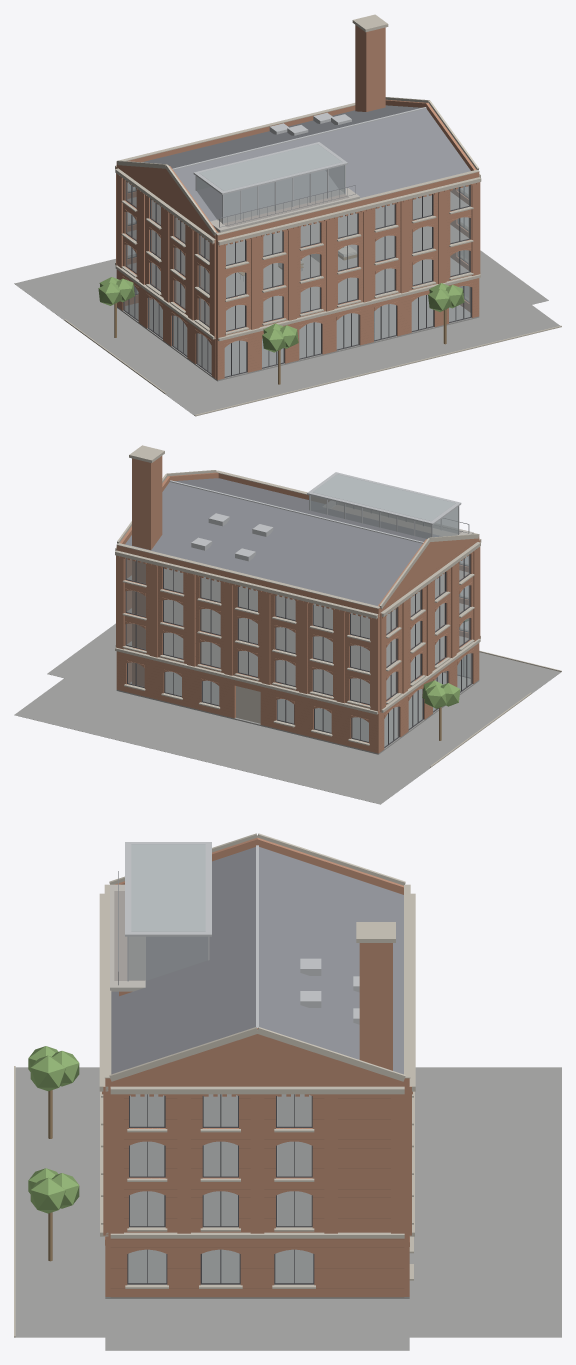
Rendered from clay-arched-mill-mixed-use-clay-v001.glb.
3 views of the same model, one above another, from view 1: azimuth 30°, elevation 25°; view 2: azimuth 150°, elevation 25°; view 3: azimuth 270°, elevation 25° (orthographic). The views are drawn at different scales.
Parts seen in each view (by area): view 1: CLAY_WALL, CLAY_FOUNDATION, CLAY_GLASS, CLAY_ROOF, CLAY_FLOOR, CLAY_STONE, CLAY_METAL, CLAY_TRIM, CLAY_PLANTING, CLAY_CONCRETE; view 2: CLAY_WALL, CLAY_FOUNDATION, CLAY_GLASS, CLAY_ROOF, CLAY_FLOOR, CLAY_STONE, CLAY_METAL, CLAY_TRIM, CLAY_PLANTING, CLAY_PALE; view 3: CLAY_FOUNDATION, CLAY_WALL, CLAY_ROOF, CLAY_GLASS, CLAY_STONE, CLAY_FLOOR, CLAY_METAL, CLAY_PLANTING, CLAY_TRIM, CLAY_JOINT, CLAY_CONCRETE.
Part boxes in pixels (<box>): CLAY_WALL: <box>116,25,480,379</box>; CLAY_FOUNDATION: <box>14,250,561,416</box>; CLAY_GLASS: <box>124,144,470,376</box>; CLAY_ROOF: <box>142,105,470,221</box>; CLAY_FLOOR: <box>127,190,468,330</box>; CLAY_STONE: <box>64,14,561,416</box>; CLAY_METAL: <box>172,107,426,223</box>; CLAY_TRIM: <box>123,180,471,377</box>; CLAY_PLANTING: <box>98,277,464,352</box>; CLAY_CONCRETE: <box>210,188,359,232</box>; CLAY_WALL: <box>116,456,480,753</box>; CLAY_FOUNDATION: <box>14,623,561,804</box>; CLAY_GLASS: <box>126,474,471,746</box>; CLAY_ROOF: <box>125,478,442,605</box>; CLAY_FLOOR: <box>127,503,468,703</box>; CLAY_STONE: <box>115,445,561,767</box>; CLAY_METAL: <box>169,472,461,561</box>; CLAY_TRIM: <box>125,554,472,747</box>; CLAY_PLANTING: <box>422,619,467,708</box>; CLAY_PALE: <box>236,686,260,723</box>; CLAY_FOUNDATION: <box>15,1067,561,1350</box>; CLAY_WALL: <box>102,837,412,1296</box>; CLAY_ROOF: <box>111,847,403,1074</box>; CLAY_GLASS: <box>128,844,313,1282</box>; CLAY_STONE: <box>14,833,415,1337</box>; CLAY_FLOOR: <box>114,891,311,1225</box>; CLAY_METAL: <box>125,842,359,1027</box>; CLAY_PLANTING: <box>28,1046,79,1213</box>; CLAY_TRIM: <box>127,1094,314,1284</box>; CLAY_JOINT: <box>111,1098,403,1297</box>; CLAY_CONCRETE: <box>110,884,145,991</box>.
Size of the model in its own units: 44 by 25.7 by 36.
